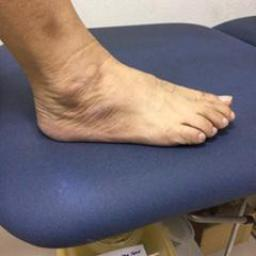Lateral View -Right Foot-: (12, 35, 241, 162)
